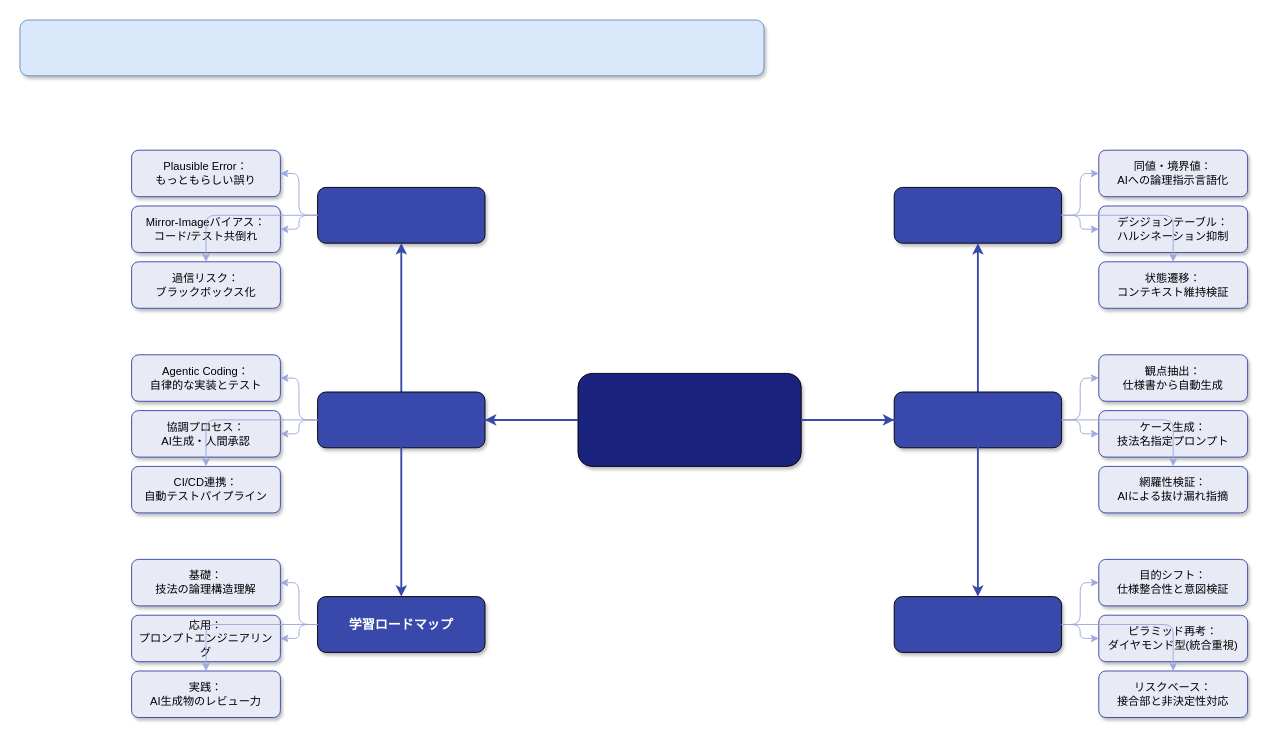
Image size: 1269x740. Some labels were removed from this diagram. Here are the shapes that lost their labels. From the top down, the centre of each, then its label:
the point at 392,48: テスト工学（学習）：Claude Code時代のAI活用システムテスト技法
the point at 402,216: リスクと限界
the point at 978,216: 古典技法の再定義
the point at 402,420: 開発フロー統合
the point at 690,421: テスト工学と AI活用システムテスト
the point at 978,420: AI活用テスト設計
the point at 978,625: テスト戦略の変革
